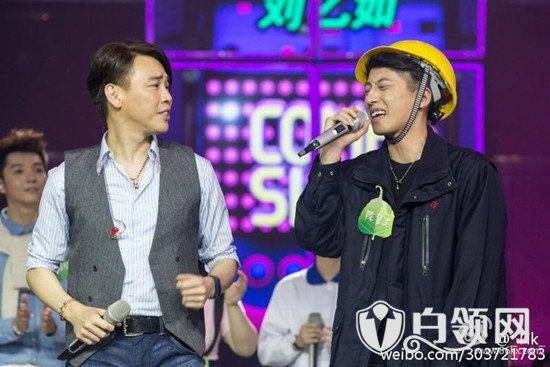none: (84, 37, 177, 145), (2, 128, 51, 208)
yellow: (355, 39, 458, 137)
